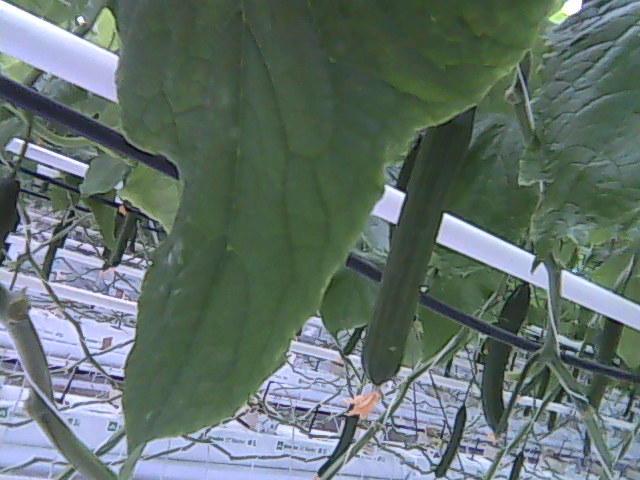concombre: (359, 110, 478, 418)
